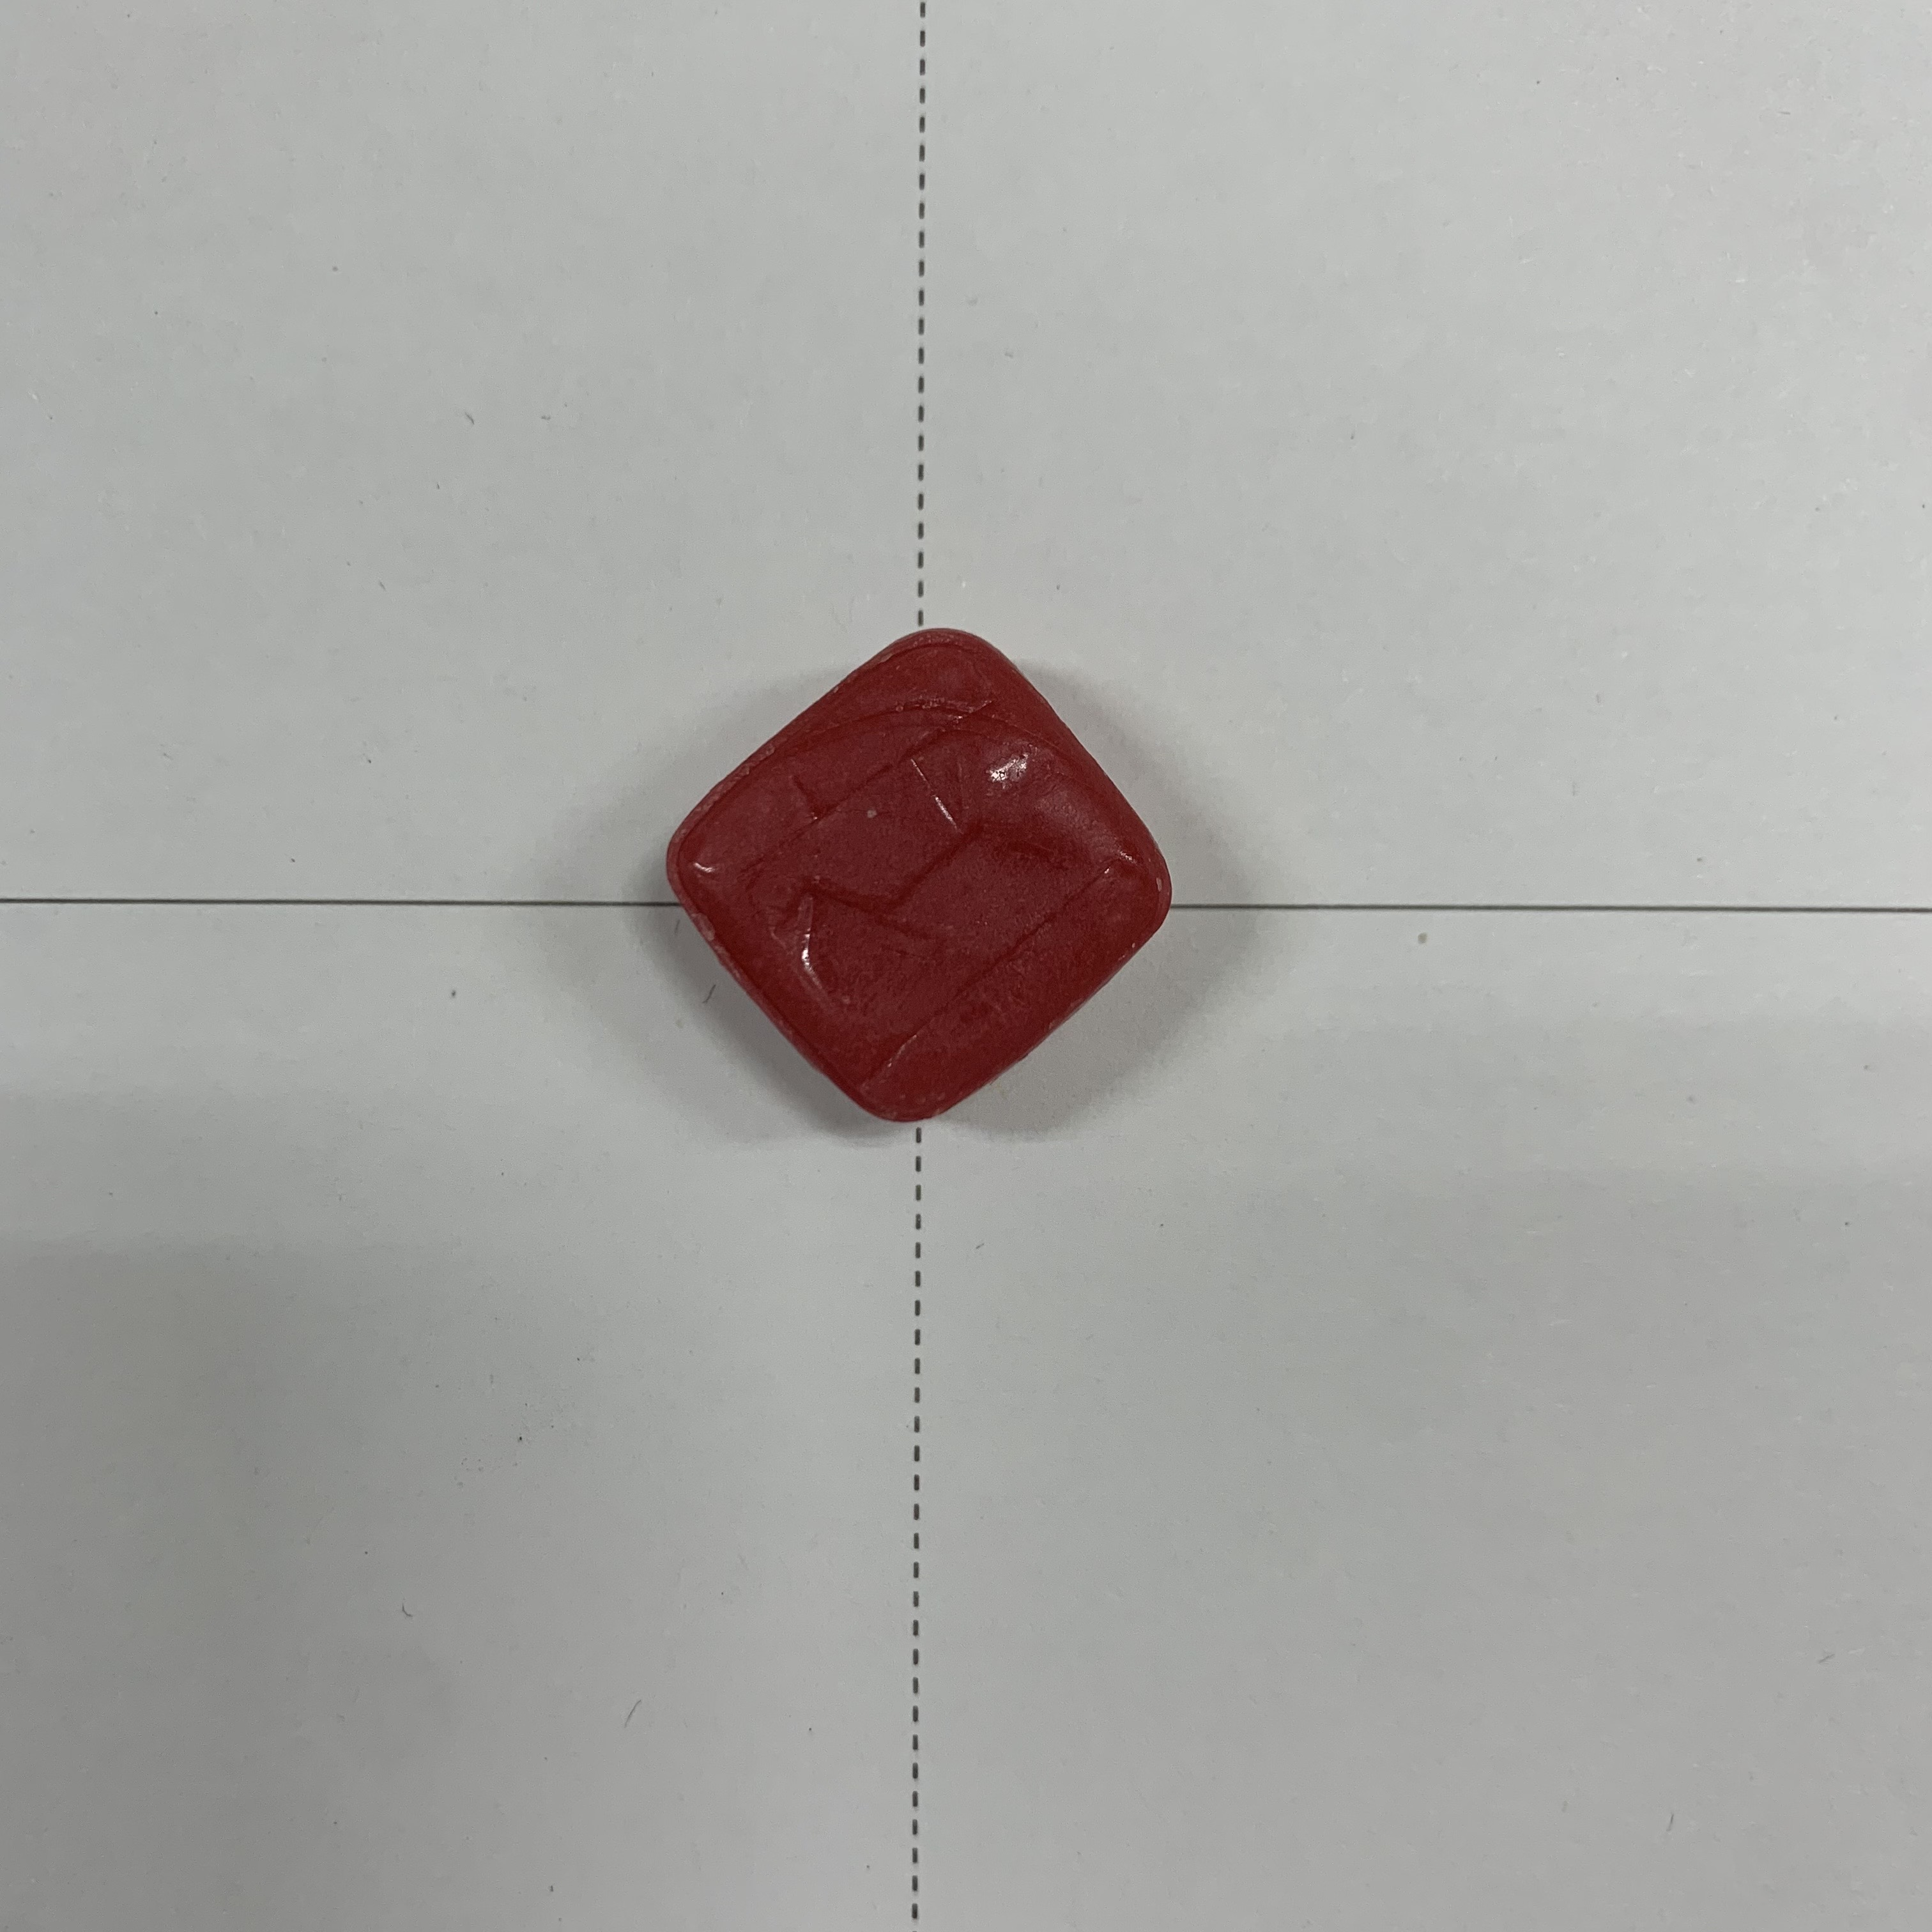sqr_drug: (653, 610, 1194, 1141)
